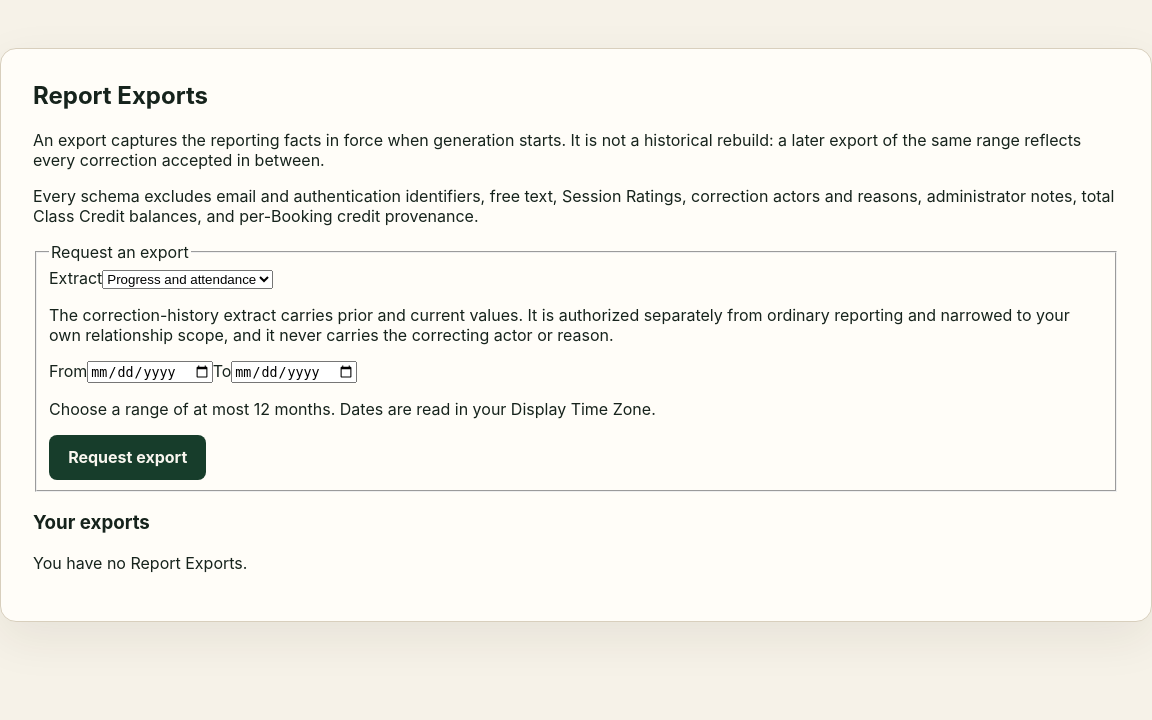
Test: Report Export panel › queues a bounded request and reports the queued state without any report data
Expected: the text "You have no Report Exports." is shown, [33,553,247,573]
Select "Progress and attendance" in the dropdown labelled "Extract" at (188,279), box [102,270,273,288]
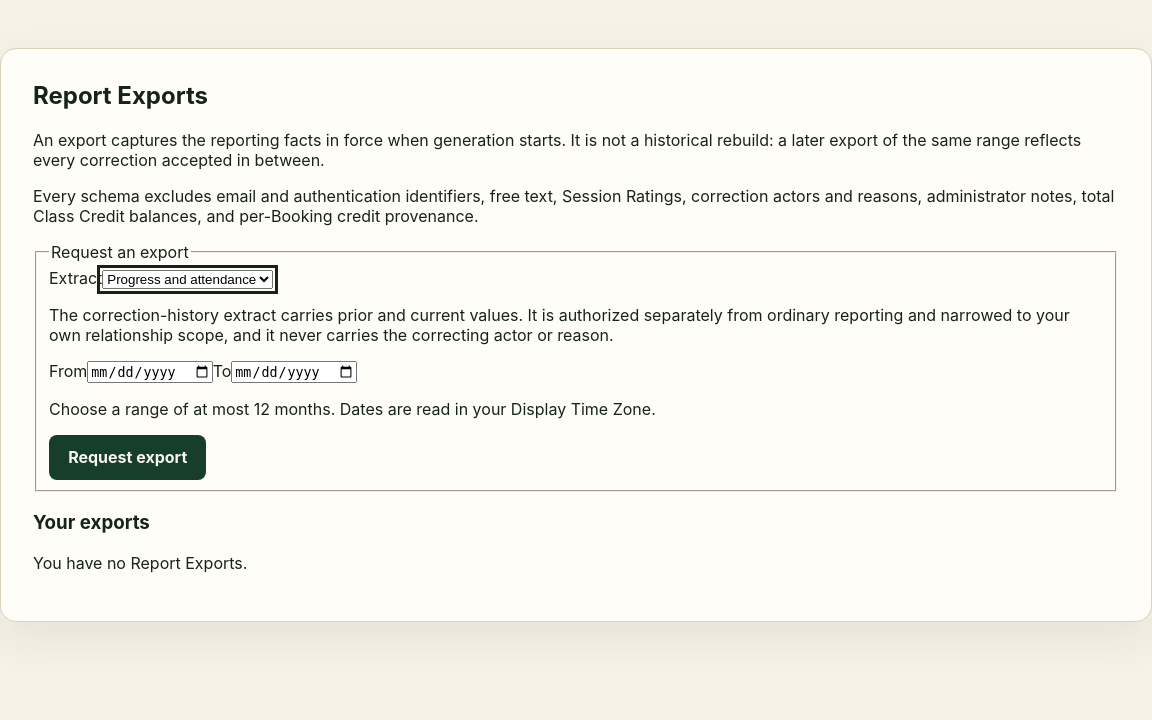
Type "2026-02-01" into the date field labelled "From" at (150,372), box [87,361,213,383]
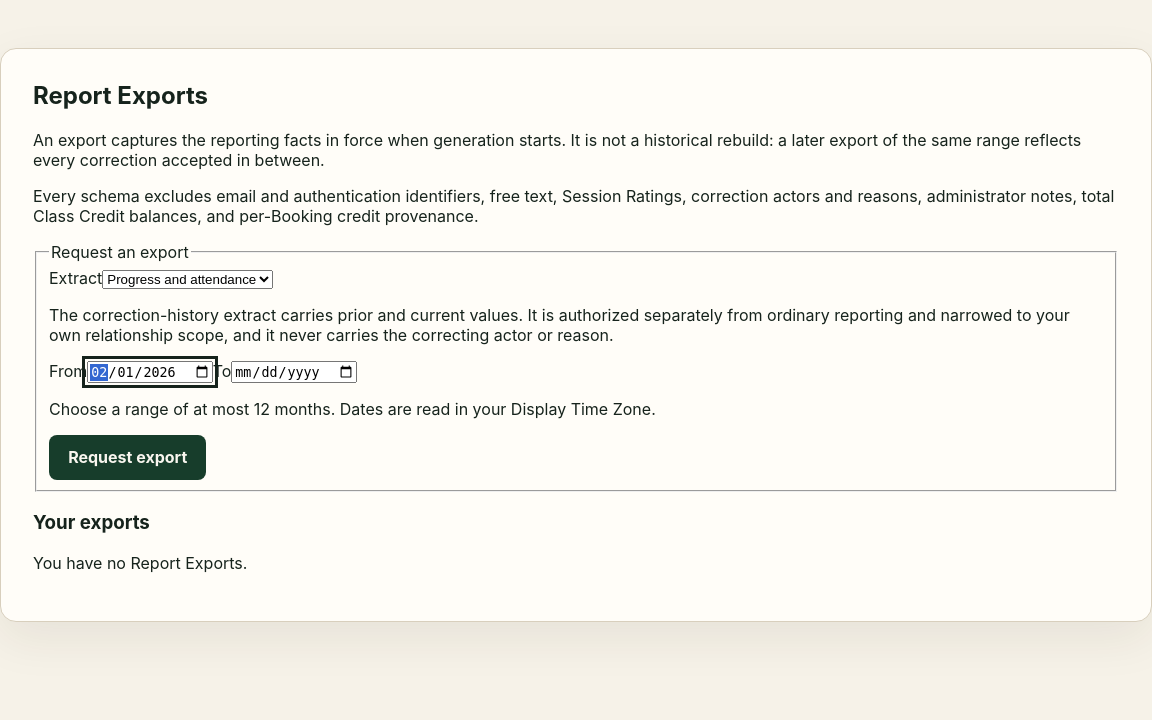
Type "2026-06-30" into the date field labelled "To" at (294,372), box [231,361,357,383]
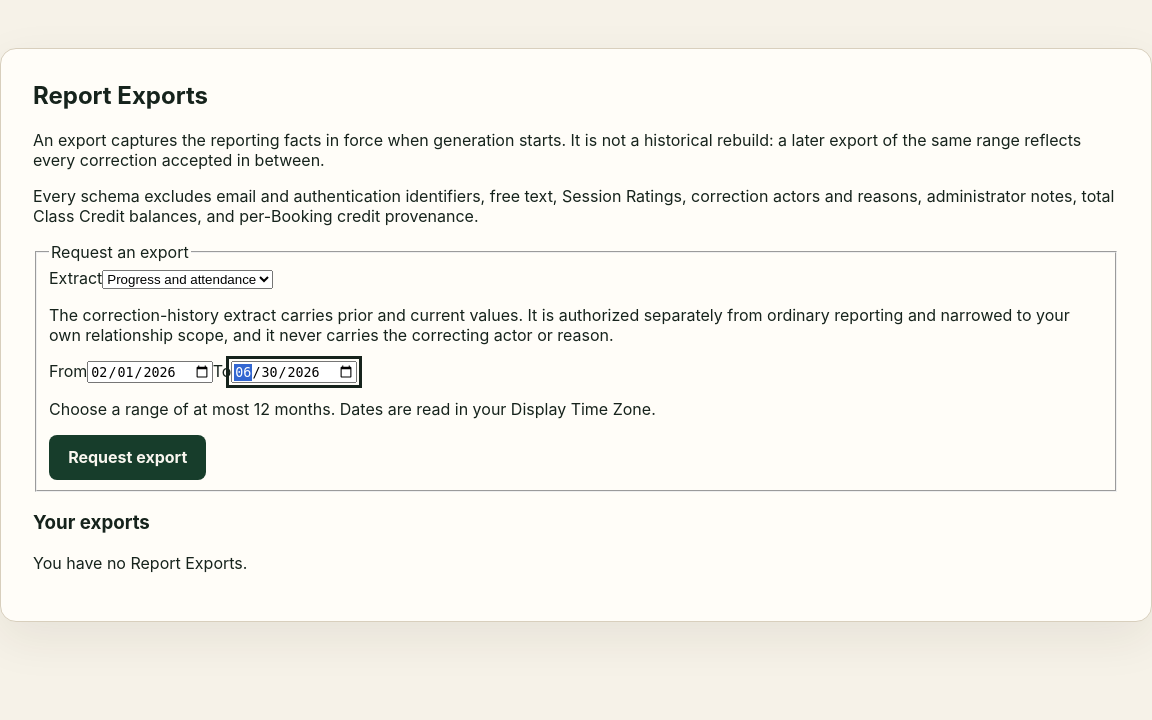
Click the button "Request export" at (128,458), box [49,435,206,480]
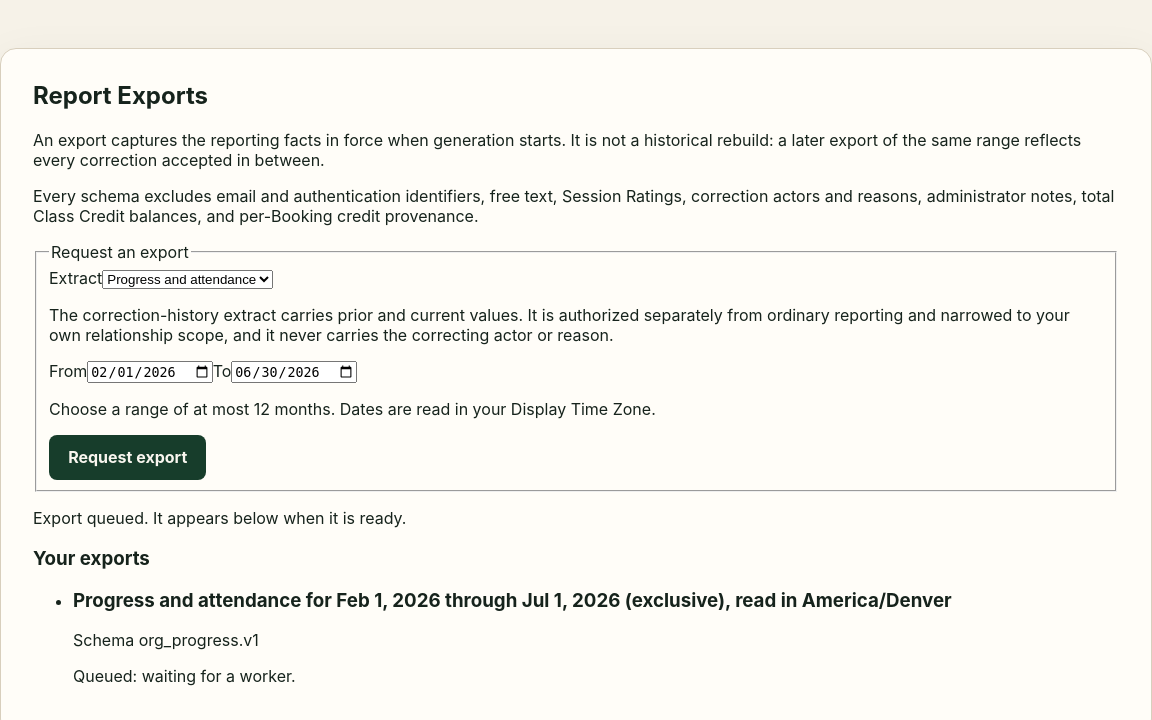
Expected: the text "Queued: waiting for a worker." is shown, [73,666,296,686]
